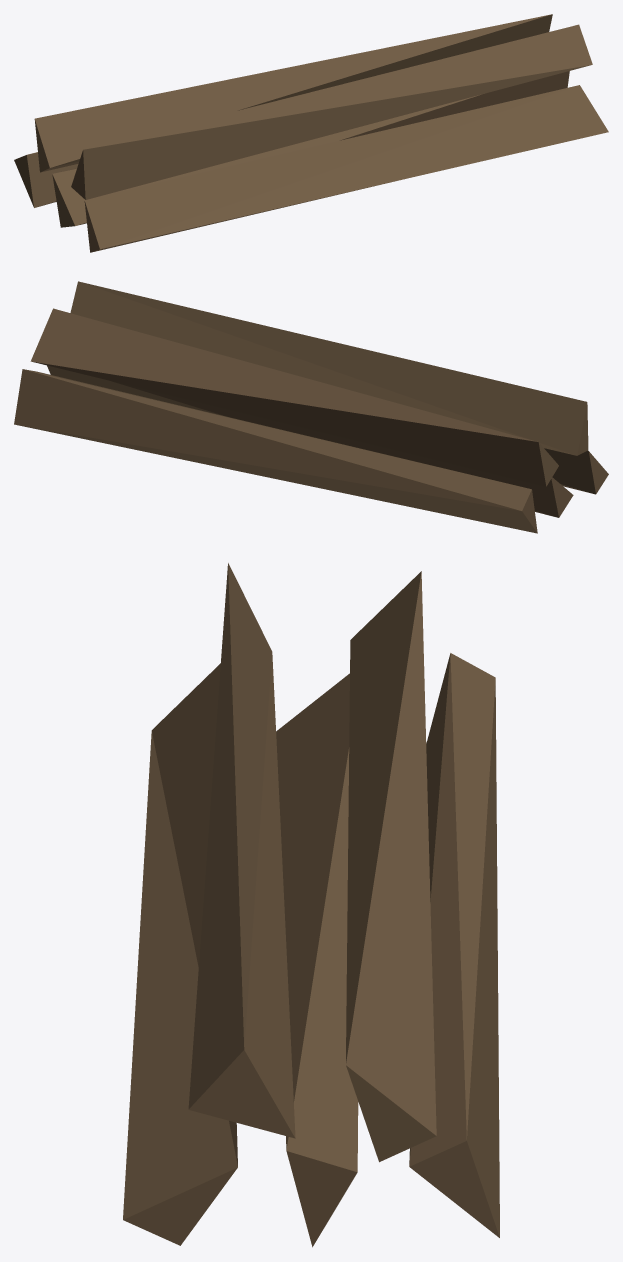
The model's file is log-pile-s.lod2.glb.
3 renders of one model, top to bottom at view 1: azimuth 30°, elevation 25°; view 2: azimuth 150°, elevation 25°; view 3: azimuth 270°, elevation 25°, orthographic. The views are drawn at different scales.
Parts seen in each view (by area): view 1: Cylinder.008_Log_0; view 2: Cylinder.008_Log_0; view 3: Cylinder.008_Log_0.
Part boxes in pixels (box(x1,y1,x2,y2)): Cylinder.008_Log_0: box(14, 14, 608, 252); Cylinder.008_Log_0: box(14, 281, 608, 533); Cylinder.008_Log_0: box(123, 563, 499, 1247).
Bounding box in the file's own units: 3.2 × 0.5933 × 1.03.
